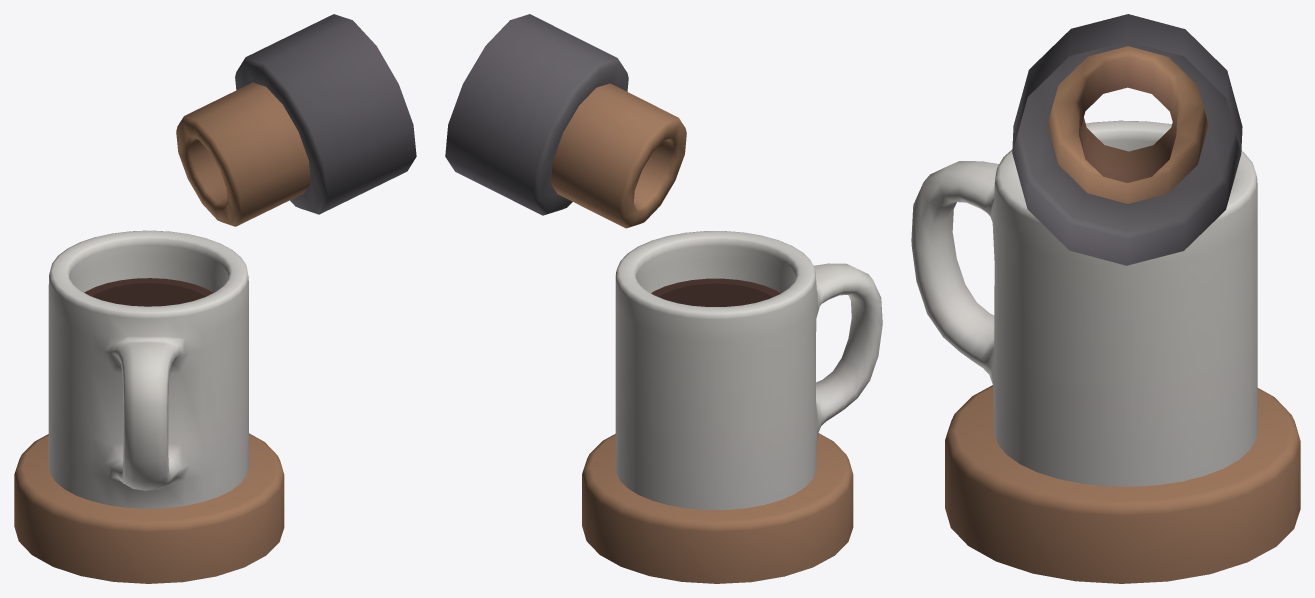
The model's file is coffeUpg.fbx.
The picture shows the model from 3 angles, left to right: view 1: azimuth 30°, elevation 25°; view 2: azimuth 150°, elevation 25°; view 3: azimuth 270°, elevation 25°; orthographic projection. The views are drawn at different scales.
Parts seen in each view (by area): view 1: coffeeTower_upg; view 2: coffeeTower_upg; view 3: coffeeTower_upg.
Boxes of the visible parts, x1,y1,x2,y2 form: coffeeTower_upg: [14, 14, 416, 583]; coffeeTower_upg: [445, 14, 882, 583]; coffeeTower_upg: [911, 14, 1300, 583].
Size of the model in its own units: 33.16 by 40.38 by 23.76.
